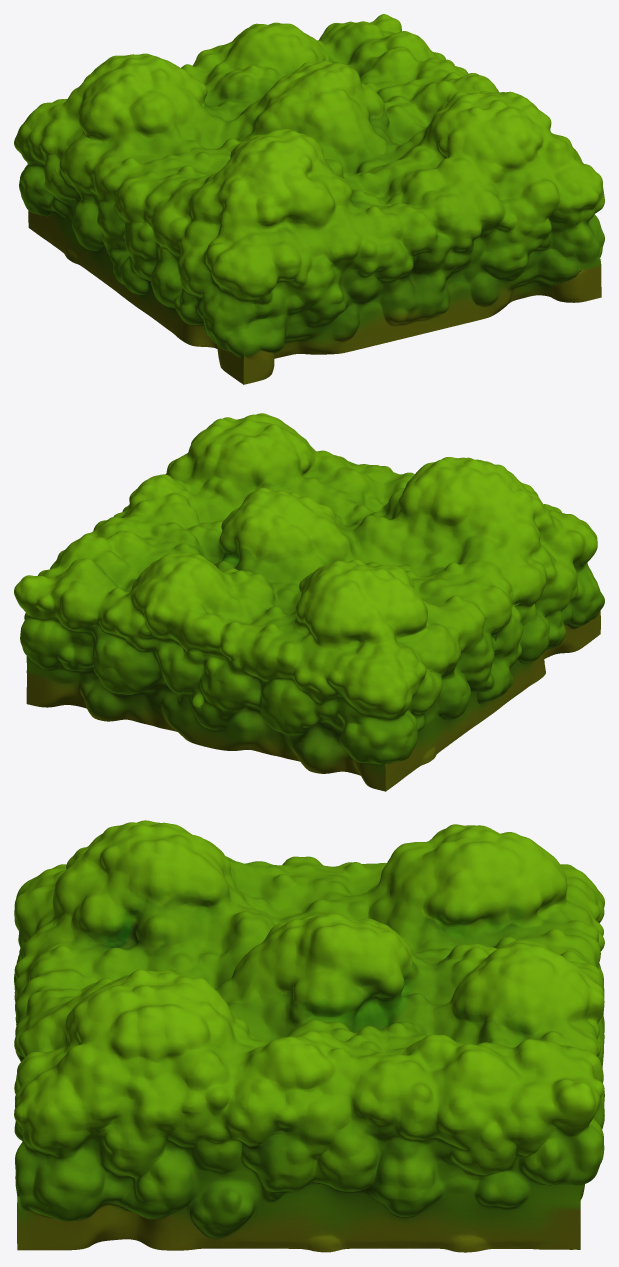
File: green+mossy+terrain+3d+model.glb
3 renders of one model, top to bottom at view 1: azimuth 30°, elevation 25°; view 2: azimuth 150°, elevation 25°; view 3: azimuth 270°, elevation 25°, orthographic. The views are drawn at different scales.
Visible parts, largest first — view 1: tripo_node_9eb5e6a4-b9e3-4916-888f-3dfff0da9c5c; view 2: tripo_node_9eb5e6a4-b9e3-4916-888f-3dfff0da9c5c; view 3: tripo_node_9eb5e6a4-b9e3-4916-888f-3dfff0da9c5c.
Part boxes in pixels (x1,y1,x2,y2): tripo_node_9eb5e6a4-b9e3-4916-888f-3dfff0da9c5c: (14,14,604,384); tripo_node_9eb5e6a4-b9e3-4916-888f-3dfff0da9c5c: (14,413,604,791); tripo_node_9eb5e6a4-b9e3-4916-888f-3dfff0da9c5c: (14,820,604,1252).
Size of the model in its own units: 1 by 0.4611 by 0.9993.
Materials: 1 (1 with a texture image).
